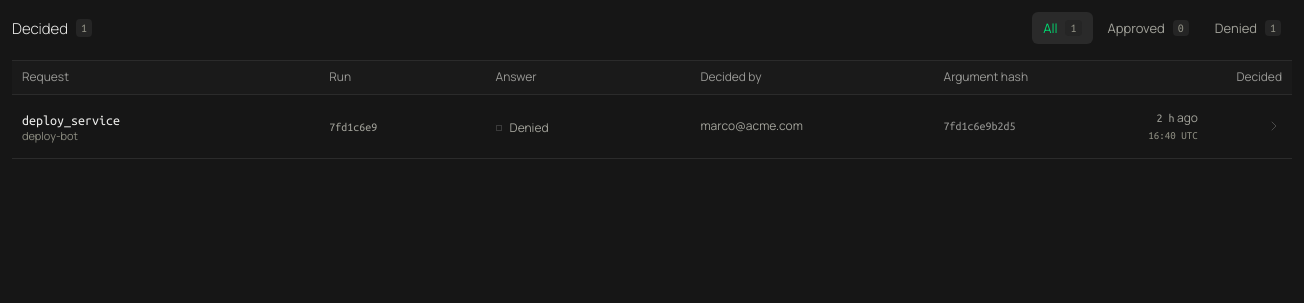
Test case: DecisionsTable › says no request was approved
Click the button "Approved 0". click: (1148, 28)
box: x1=1096 y1=12 x2=1200 y2=44
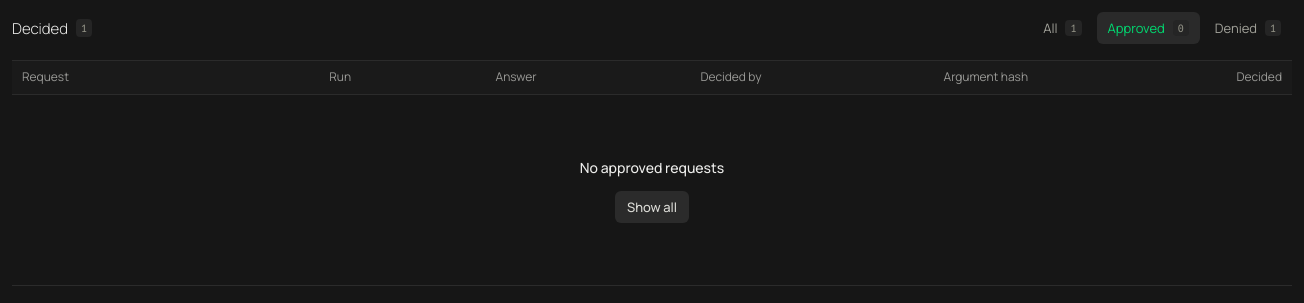
Expected: the heading "No approved requests" is shown, x1=580 y1=157 x2=724 y2=179
Expected: the button "Show all" is shown, x1=615 y1=191 x2=689 y2=223
